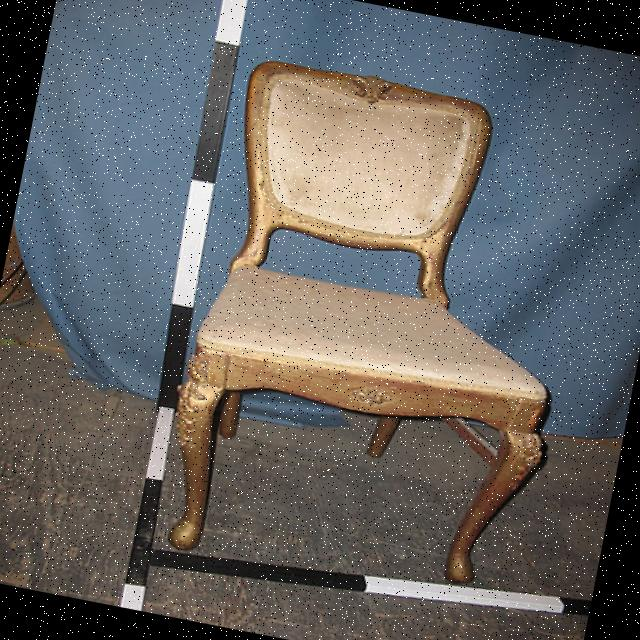Chair: (118, 26, 631, 640)
